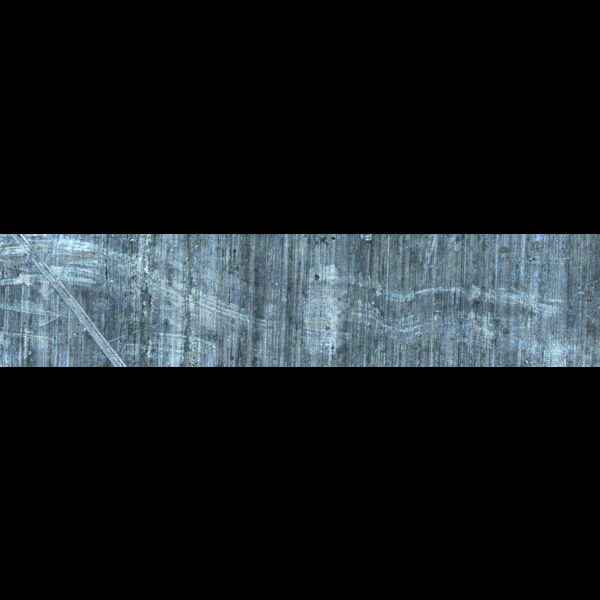d: (4, 239, 134, 366), (302, 287, 570, 348), (137, 274, 273, 366), (295, 256, 359, 353)
